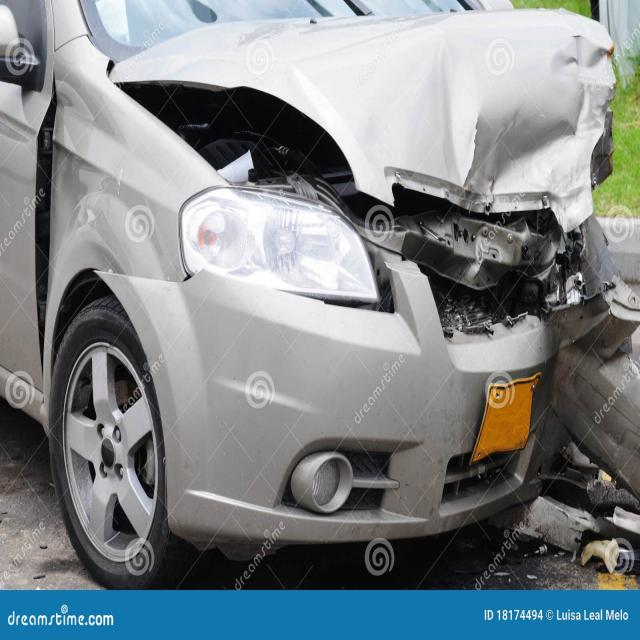crush: (34, 7, 640, 507)
